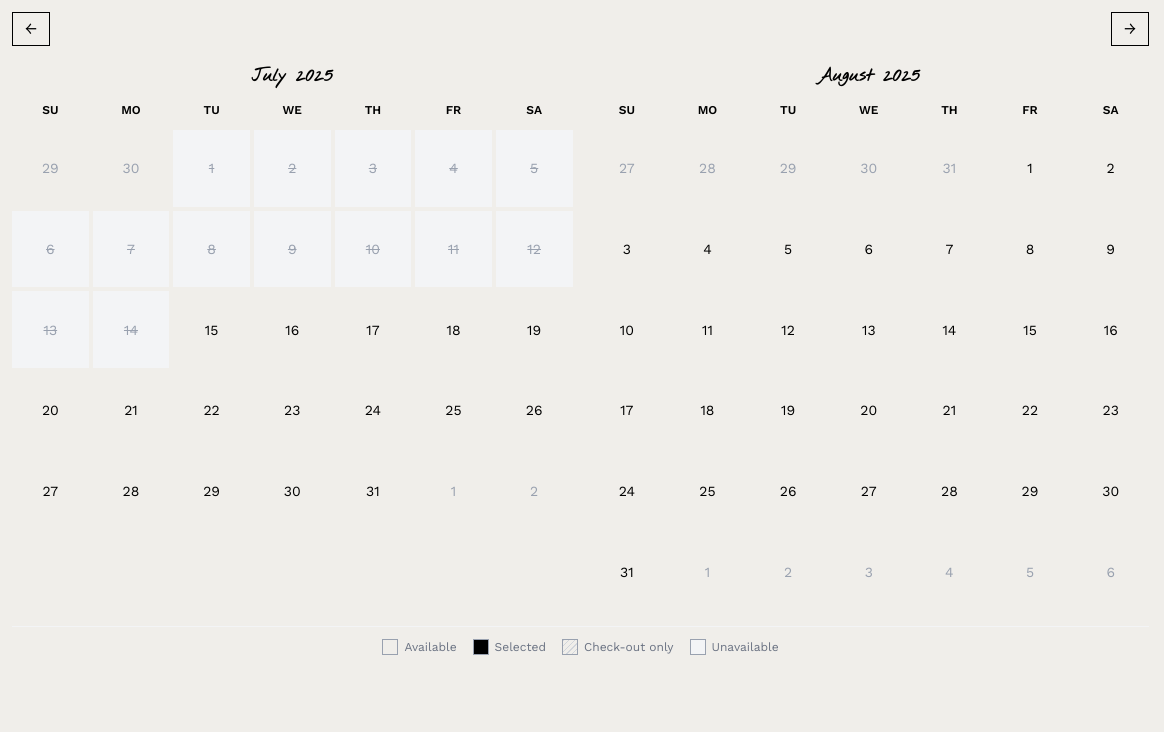
Scenario: user navigates one month backward and sees previous months
This screenshot has width=1164, height=732.
Click the button named "Next month" at point(1130, 29), box x1=1111 y1=12 x2=1149 y2=46
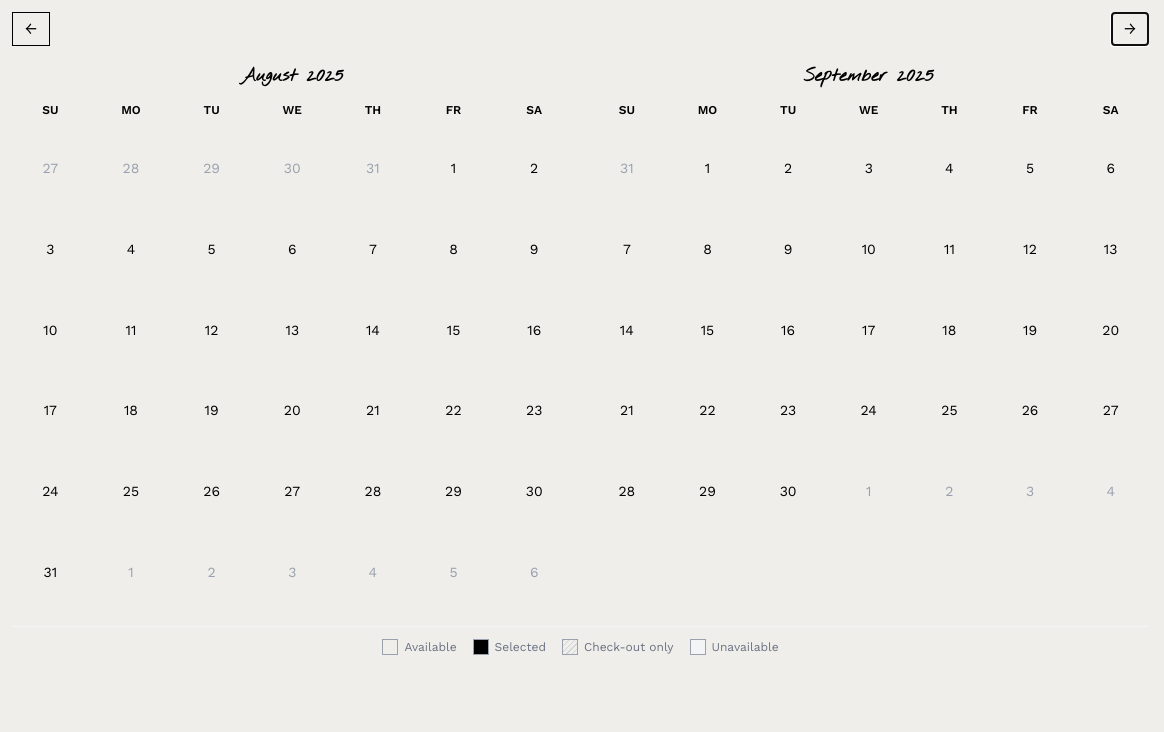
Click the button named "Previous month" at point(31, 29), box x1=12 y1=12 x2=50 y2=46
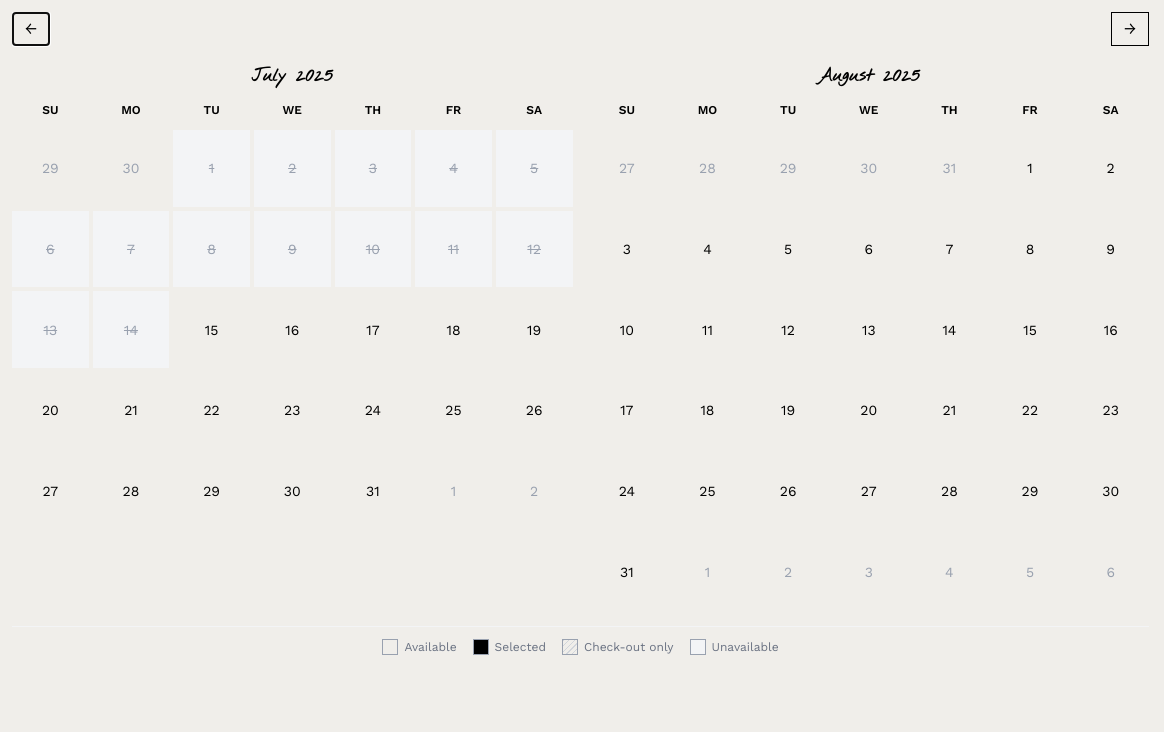
Expected: the heading "July 2025" is shown, x1=252 y1=64 x2=333 y2=88
Expected: the heading "August 2025" is shown, x1=817 y1=64 x2=920 y2=88
